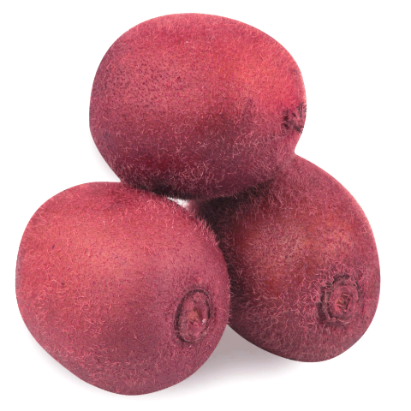kiwi: (2, 166, 252, 402), (68, 2, 310, 205), (178, 155, 372, 386)
